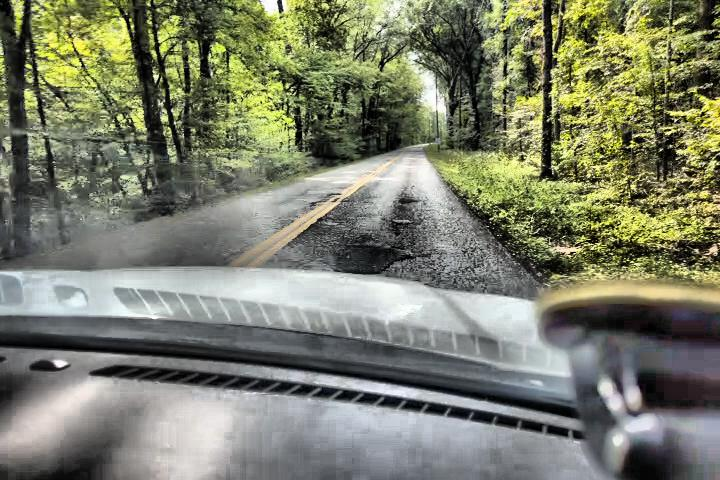pothole: (391, 216, 411, 236)
